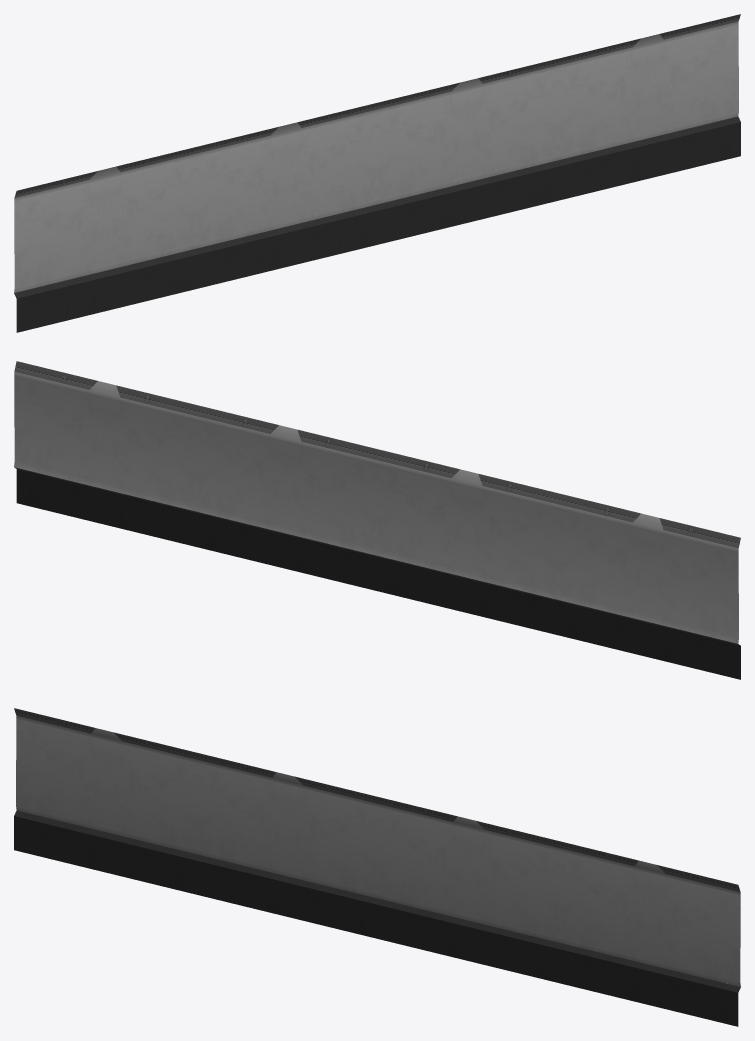
File: wall.fbx
The picture shows the model from 3 angles, top to bottom: view 1: azimuth 30°, elevation 25°; view 2: azimuth 150°, elevation 25°; view 3: azimuth 330°, elevation 25°; orthographic projection.
Visible parts, largest first — view 1: WallAstra_Straight_Flat5; view 2: WallAstra_Straight_Flat5; view 3: WallAstra_Straight_Flat5.
Part boxes in pixels (x1,y1,x2,y2): WallAstra_Straight_Flat5: [14, 14, 740, 332]; WallAstra_Straight_Flat5: [14, 361, 740, 679]; WallAstra_Straight_Flat5: [14, 708, 740, 1026].
Bounding box in the file's own units: 1600 × 300 × 10.
Materials: 3 (3 with a texture image).
